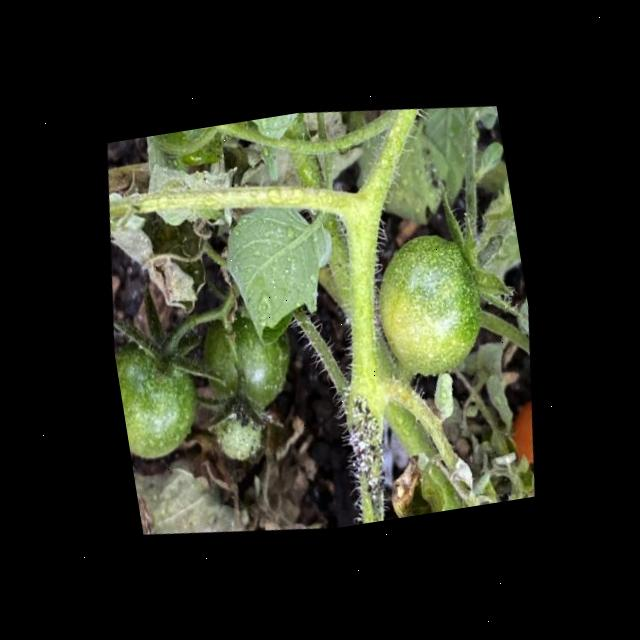tomato: (360, 221, 499, 385), (188, 296, 304, 426), (113, 329, 213, 468)
